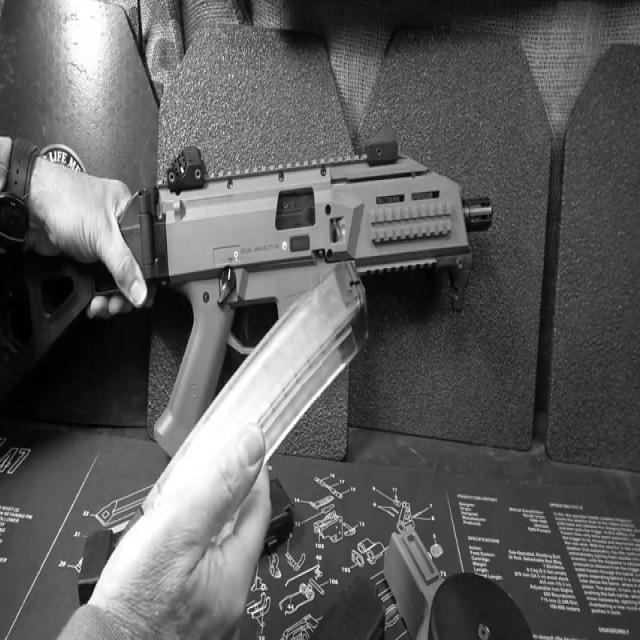Sub-machine-gun: (70, 162, 502, 436)
